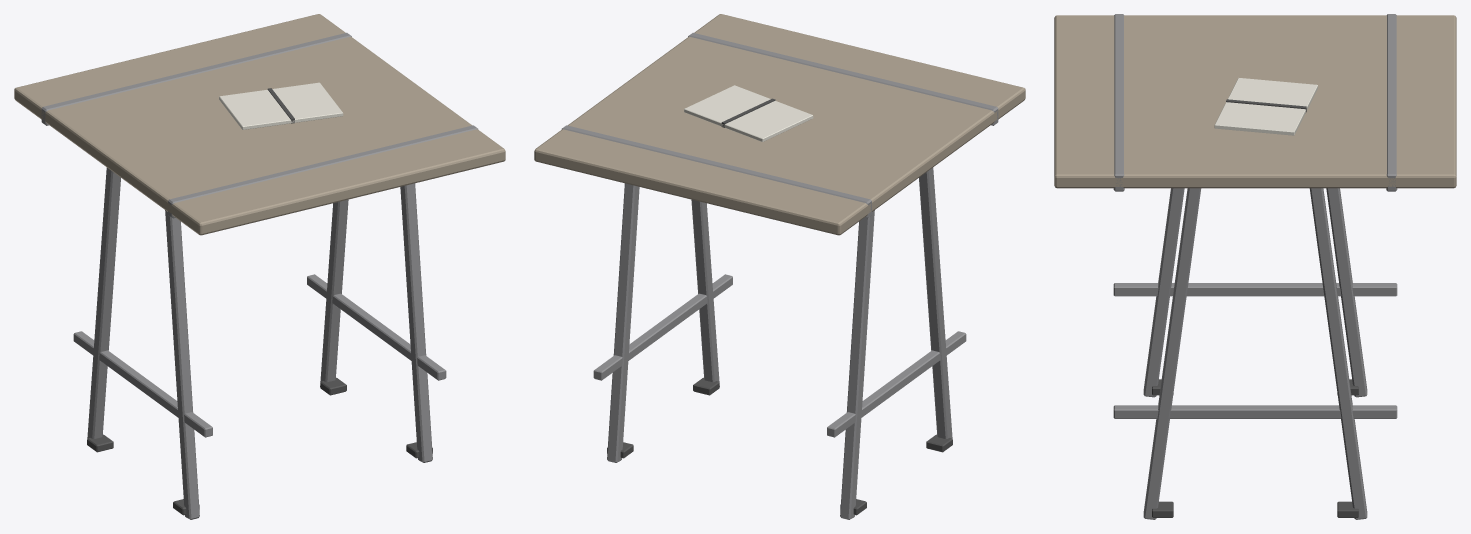
Rendered from folding_table_01.glb.
The picture shows the model from 3 angles, left to right: view 1: azimuth 30°, elevation 25°; view 2: azimuth 150°, elevation 25°; view 3: azimuth 270°, elevation 25°; orthographic projection. The views are drawn at different scales.
Parts seen in each view (by area): view 1: folding_table_01; view 2: folding_table_01; view 3: folding_table_01.
Boxes of the visible parts, x1,y1,x2,y2 form: folding_table_01: (14, 14, 505, 519); folding_table_01: (534, 14, 1025, 519); folding_table_01: (1054, 14, 1456, 519).
Bounding box in the file's own units: 0.7 × 0.7424 × 0.738.
